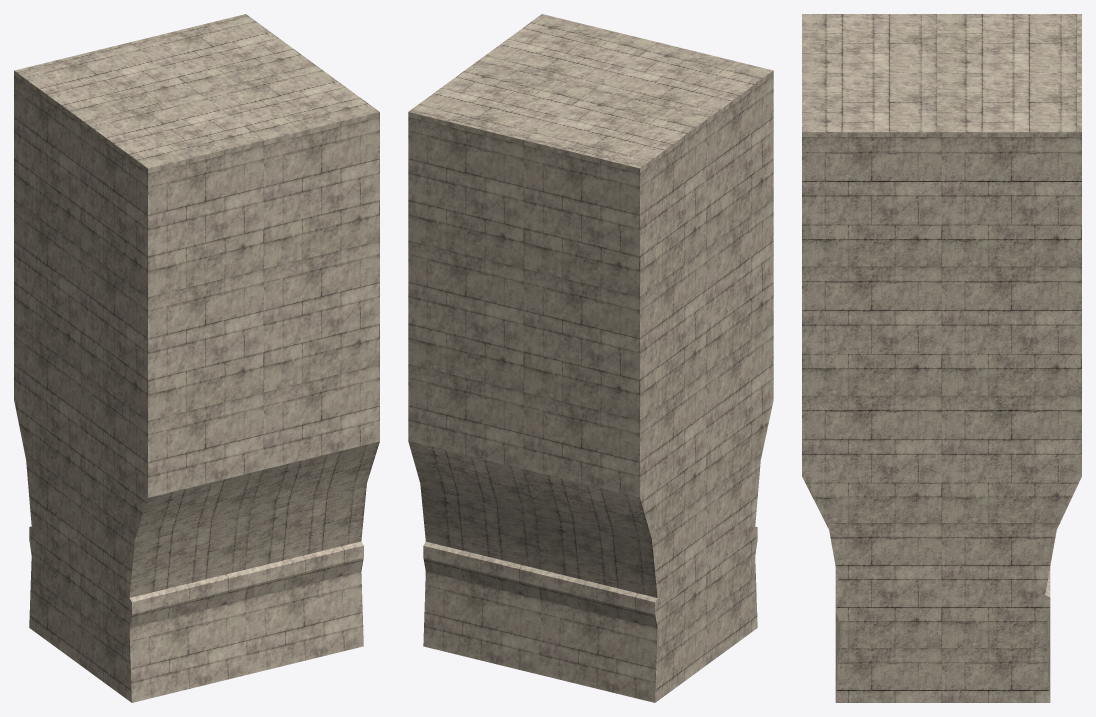
Rendered from SupportMarbleCenter.dae.
3 views of the same model, side by side, from view 1: azimuth 30°, elevation 25°; view 2: azimuth 150°, elevation 25°; view 3: azimuth 270°, elevation 25° (orthographic). The views are drawn at different scales.
Parts seen in each view (by area): view 1: SupportMarbleCenter; view 2: SupportMarbleCenter; view 3: SupportMarbleCenter.
Part boxes in pixels (bbox=[...]): SupportMarbleCenter: bbox=[14, 14, 379, 702]; SupportMarbleCenter: bbox=[408, 14, 773, 702]; SupportMarbleCenter: bbox=[802, 14, 1081, 702].
Bounding box in the file's own units: 4 × 9 × 4.
1 material, 1 textured.
